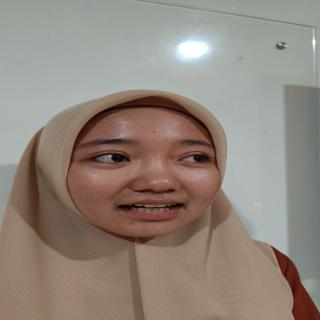Takut: (57, 100, 235, 241)
